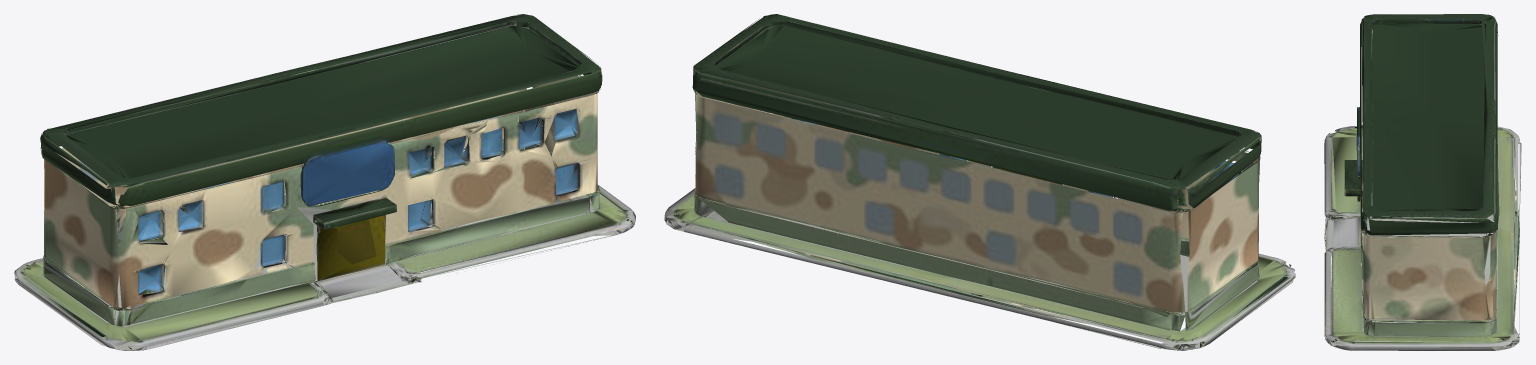
Rendered from grenade-barracks-low.glb.
3 views of the same model, side by side, from view 1: azimuth 30°, elevation 25°; view 2: azimuth 150°, elevation 25°; view 3: azimuth 270°, elevation 25° (orthographic). The views are drawn at different scales.
Size of the model in its own units: 0.9497 by 0.2534 by 0.3589.
Materials: 1 (1 with a texture image).
